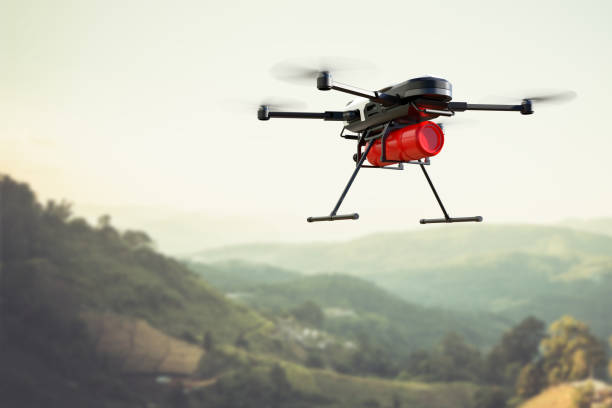Drone: (246, 54, 580, 134)
